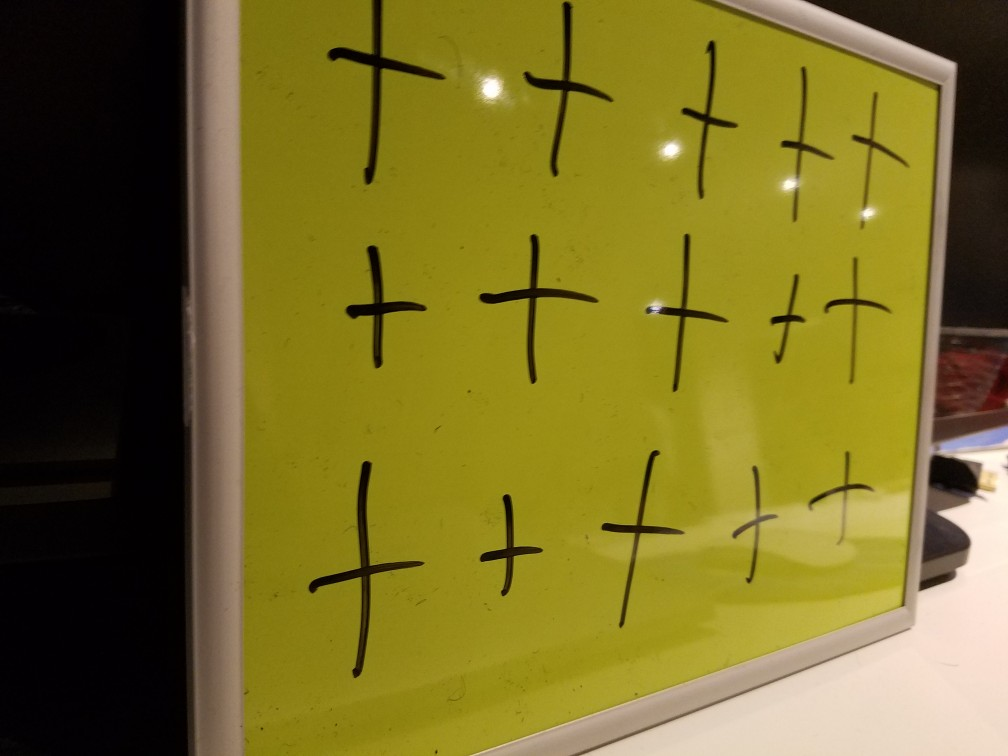+: (292, 430, 438, 694), (316, 1, 452, 205), (475, 216, 610, 403), (504, 1, 618, 209), (580, 426, 689, 639), (634, 216, 732, 403), (318, 228, 429, 373), (815, 248, 903, 405), (673, 16, 739, 213), (764, 53, 836, 232), (838, 66, 911, 240), (473, 483, 558, 607), (717, 442, 786, 591), (804, 438, 885, 554), (756, 257, 809, 374)
